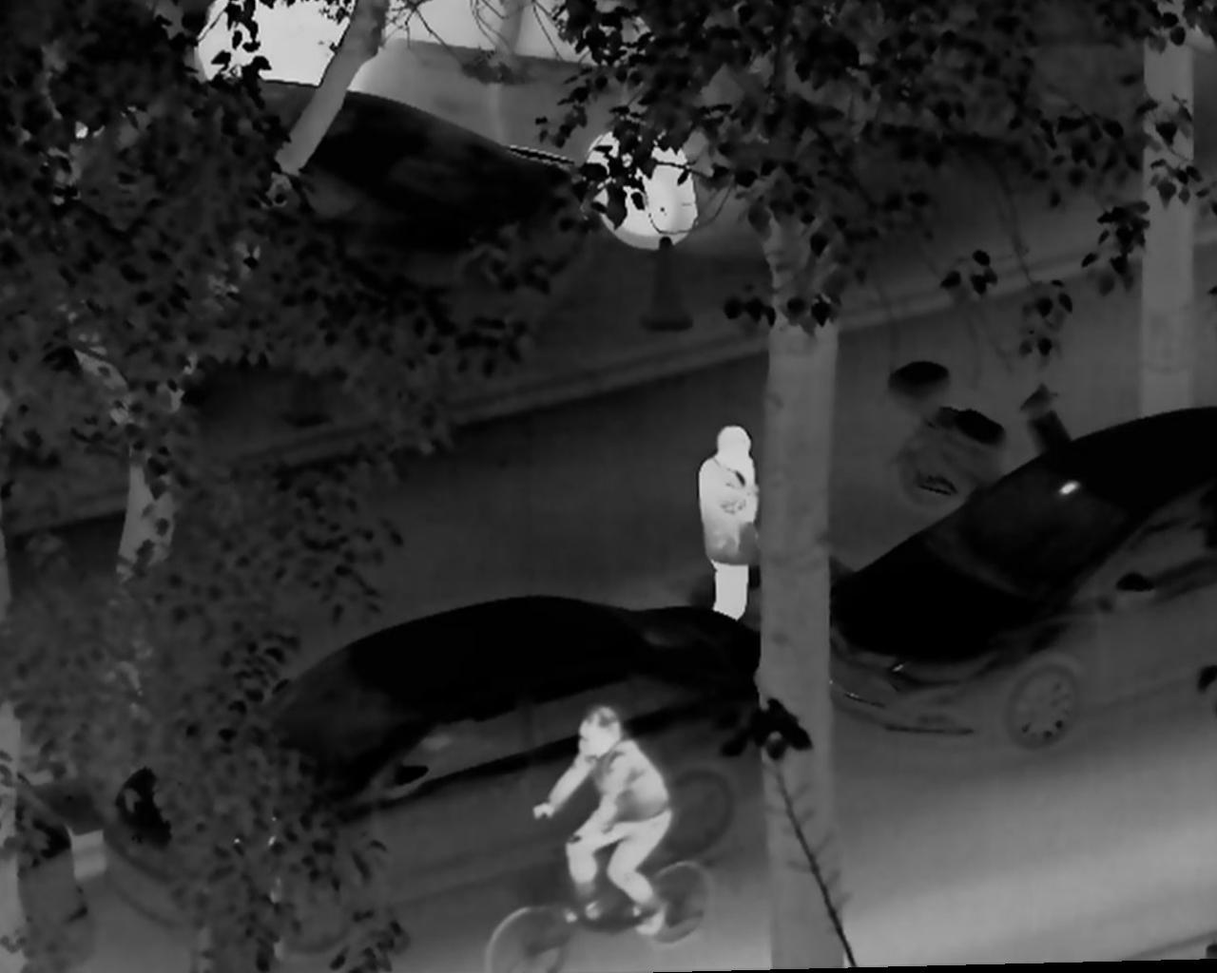person: (525, 697, 678, 942), (690, 418, 767, 625)
